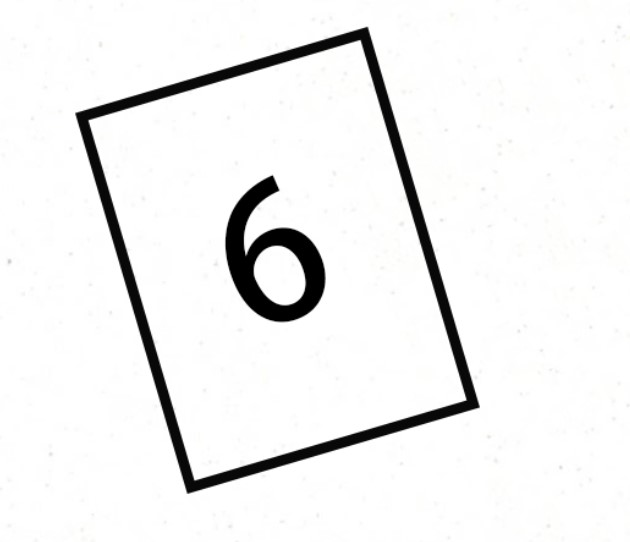six: (168, 142, 369, 358)
